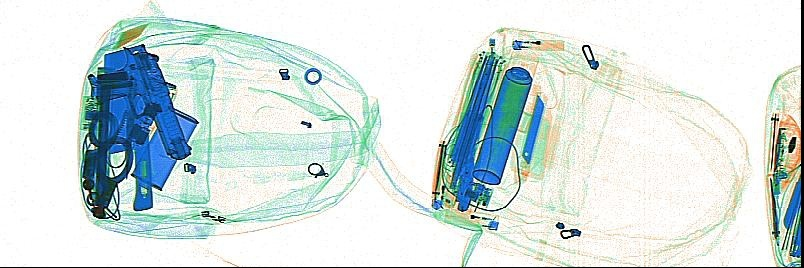handcuffs: (86, 111, 133, 219)
knife: (101, 41, 153, 211), (516, 93, 544, 180), (456, 149, 476, 212), (783, 164, 799, 231), (431, 139, 447, 204), (767, 172, 780, 240), (767, 111, 778, 170)
lighter: (511, 38, 564, 51)
pressure: (470, 66, 532, 184)
scissors: (105, 64, 155, 179)
zippooil: (130, 108, 198, 191)
